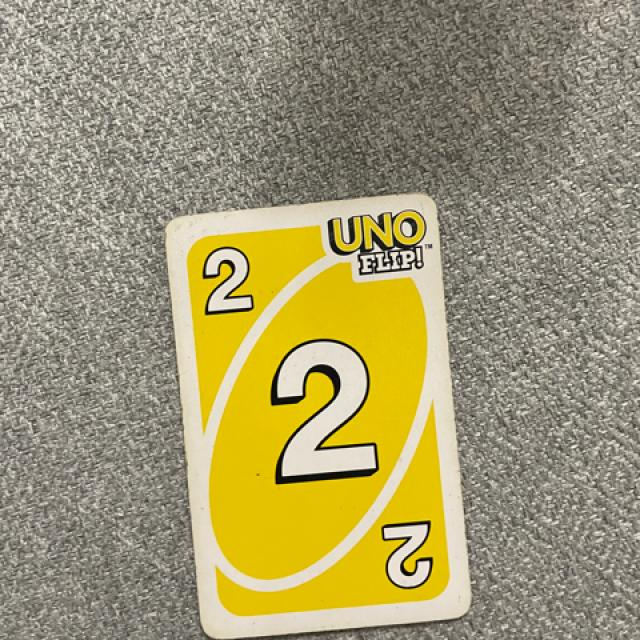lyellow-2: (181, 230, 271, 328)
